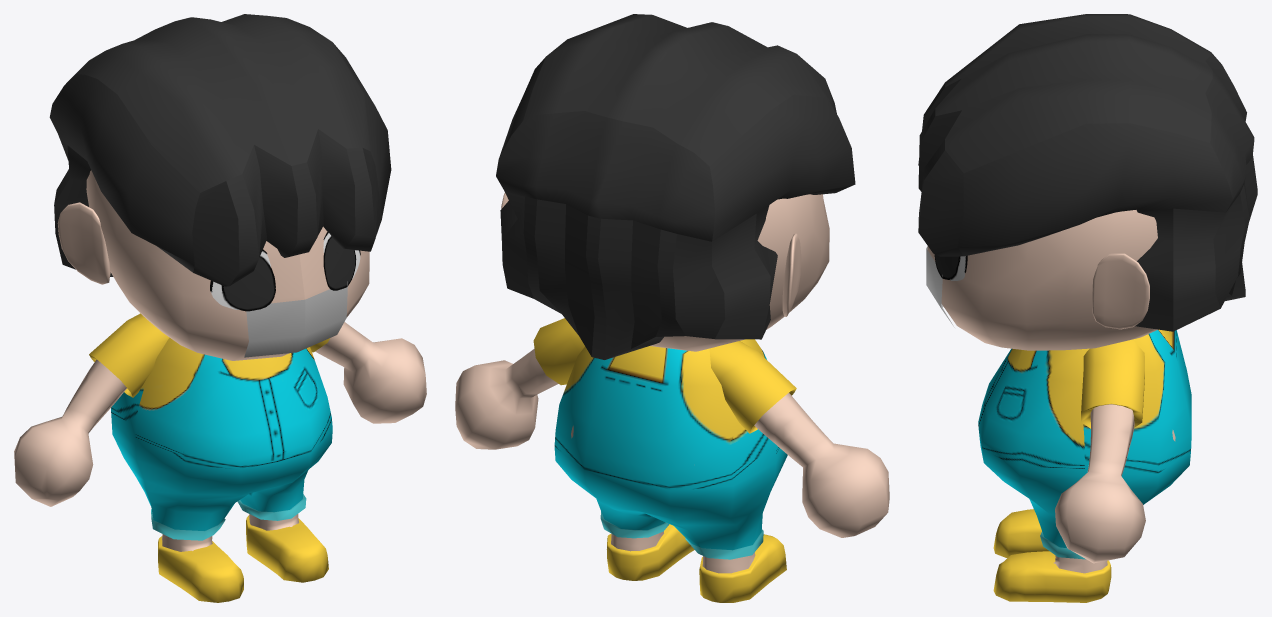
Rendered from Boy.fbx.
3 renders of one model, left to right at view 1: azimuth 30°, elevation 25°; view 2: azimuth 150°, elevation 25°; view 3: azimuth 270°, elevation 25°, orthographic. The views are drawn at different scales.
Parts seen in each view (by area): view 1: Hair_v2_10, polySurface4, shirt_n_pants5, mouth, pCube48, pCube47, eyes, pCylinder14; view 2: Hair_v2_10, shirt_n_pants5, polySurface4, pCylinder14, pCube48, pCube47, pCylinder15; view 3: Hair_v2_10, polySurface4, shirt_n_pants5, pCube47, pCylinder15, pCube48, eyes, mouth.
Part boxes in pixels (x1=…): Hair_v2_10: x1=49, y1=14, x2=391, y2=286; polySurface4: x1=14, y1=170, x2=426, y2=551; shirt_n_pants5: x1=111, y1=337, x2=332, y2=540; mouth: x1=244, y1=281, x2=347, y2=357; pCube48: x1=158, y1=536, x2=243, y2=602; pCube47: x1=246, y1=515, x2=328, y2=582; eyes: x1=210, y1=231, x2=360, y2=311; pCylinder14: x1=89, y1=313, x2=169, y2=397; Hair_v2_10: x1=496, y1=14, x2=855, y2=359; shirt_n_pants5: x1=554, y1=339, x2=787, y2=559; polySurface4: x1=455, y1=193, x2=889, y2=573; pCylinder14: x1=709, y1=341, x2=796, y2=433; pCube48: x1=699, y1=534, x2=786, y2=602; pCube47: x1=606, y1=524, x2=694, y2=580; pCylinder15: x1=533, y1=318, x2=584, y2=385; Hair_v2_10: x1=918, y1=14, x2=1257, y2=331; polySurface4: x1=927, y1=210, x2=1175, y2=573; shirt_n_pants5: x1=978, y1=329, x2=1191, y2=559; pCube47: x1=993, y1=551, x2=1111, y2=602; pCylinder15: x1=1081, y1=340, x2=1144, y2=428; pCube48: x1=993, y1=509, x2=1049, y2=558; eyes: x1=934, y1=254, x2=967, y2=280; mouth: x1=926, y1=246, x2=954, y2=327.
Size of the model in its own units: 5.07 by 6.17 by 3.57.
